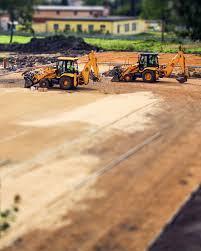excavator: (20, 49, 101, 93), (115, 48, 188, 89)
